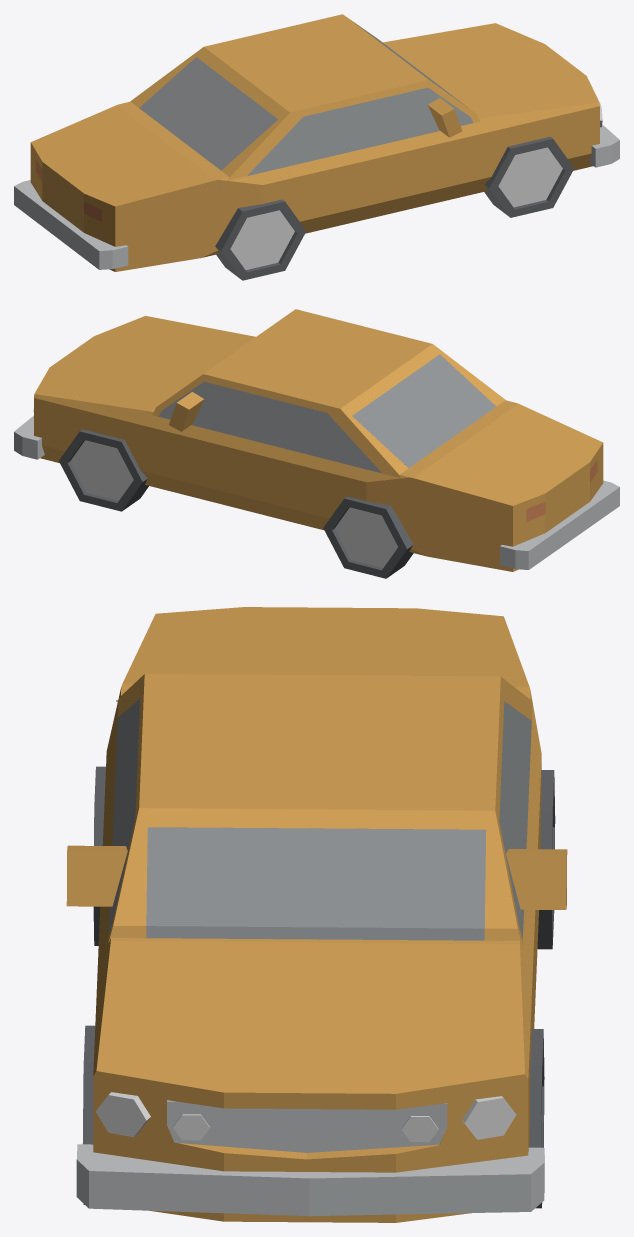
Rendered from CAR.glb.
The picture shows the model from 3 angles, top to bottom: view 1: azimuth 30°, elevation 25°; view 2: azimuth 150°, elevation 25°; view 3: azimuth 270°, elevation 25°; orthographic projection. The views are drawn at different scales.
Visible parts, largest first — view 1: Mesh_Mesh_head_geo.001_lambert2SG.001; view 2: Mesh_Mesh_head_geo.001_lambert2SG.001; view 3: Mesh_Mesh_head_geo.001_lambert2SG.001.
Part boxes in pixels (x1,y1,x2,y2): Mesh_Mesh_head_geo.001_lambert2SG.001: [14, 14, 619, 280]; Mesh_Mesh_head_geo.001_lambert2SG.001: [14, 309, 619, 578]; Mesh_Mesh_head_geo.001_lambert2SG.001: [66, 607, 567, 1222].
Size of the model in its own units: 85.21 by 23 by 36.05.
